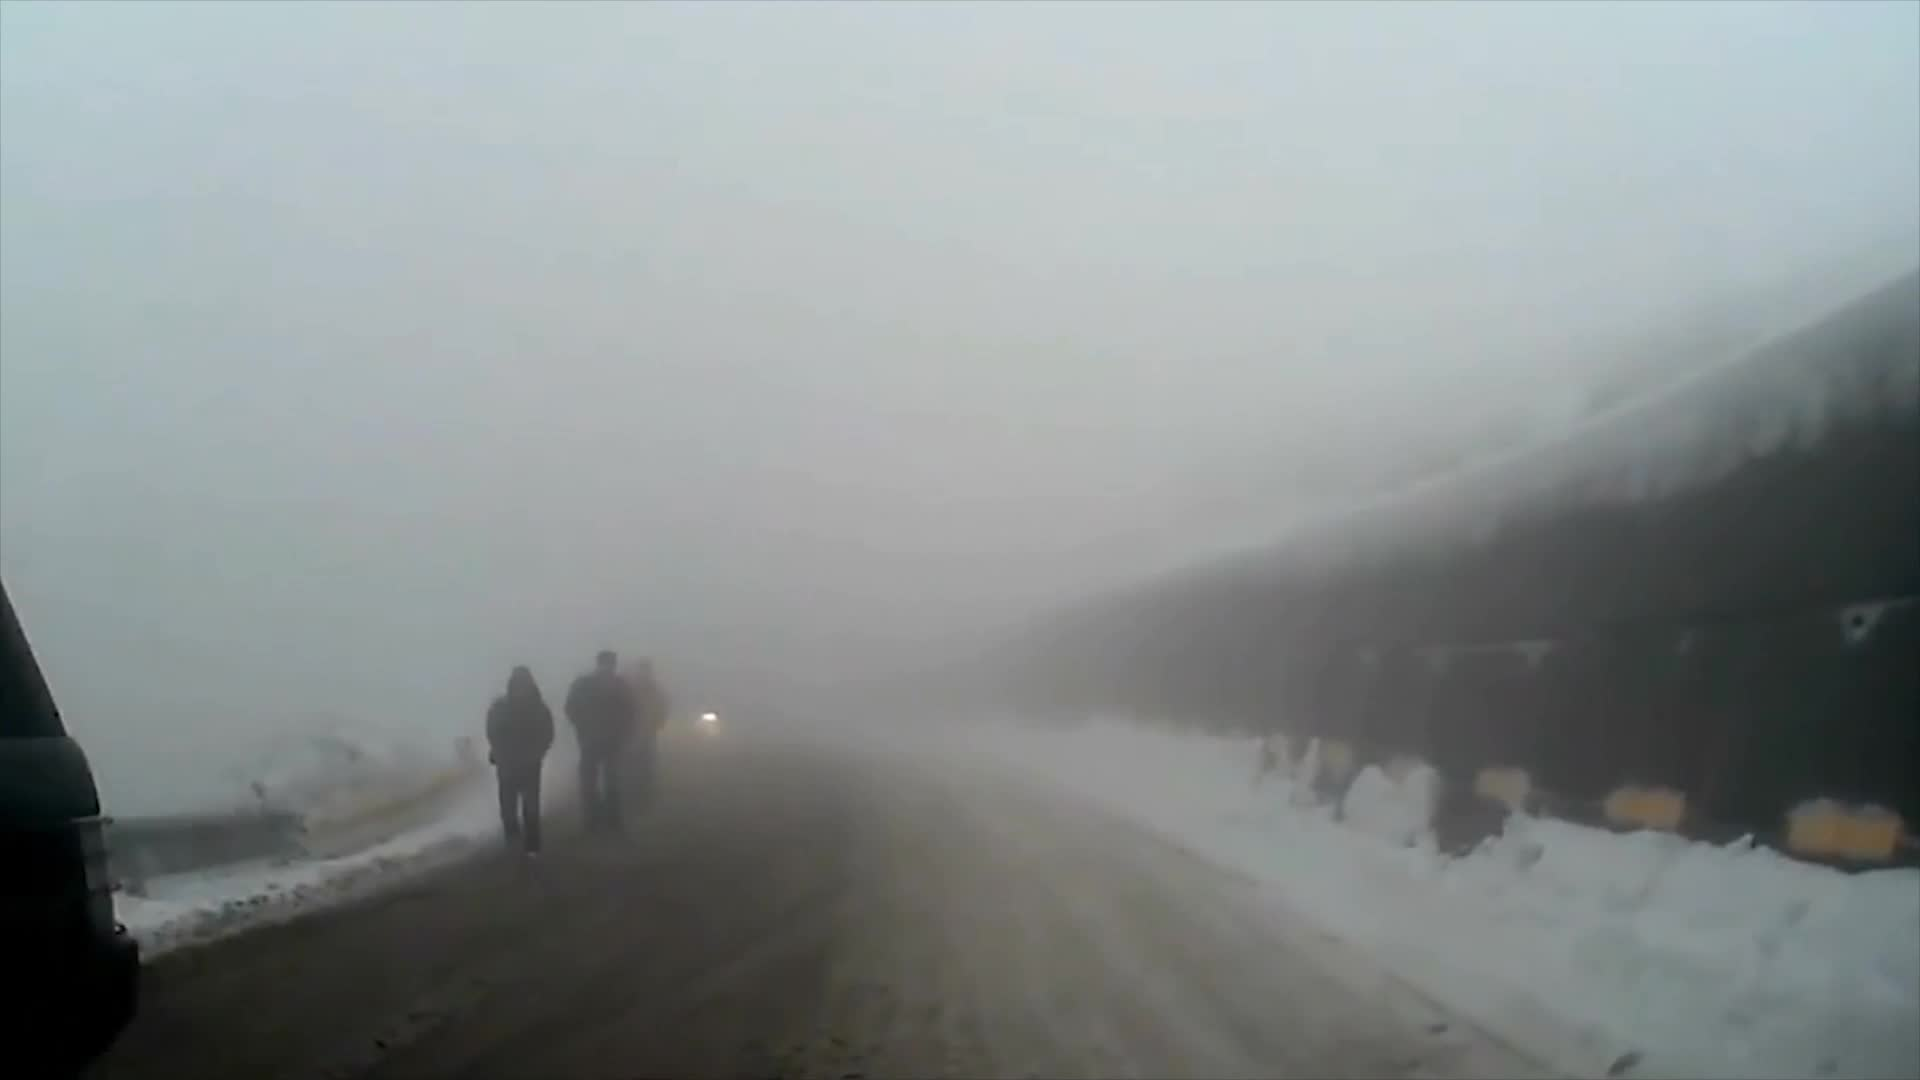pedestrian: (481, 666, 560, 862), (565, 650, 639, 834), (618, 655, 672, 820)
vehicle: (0, 570, 142, 1079)
